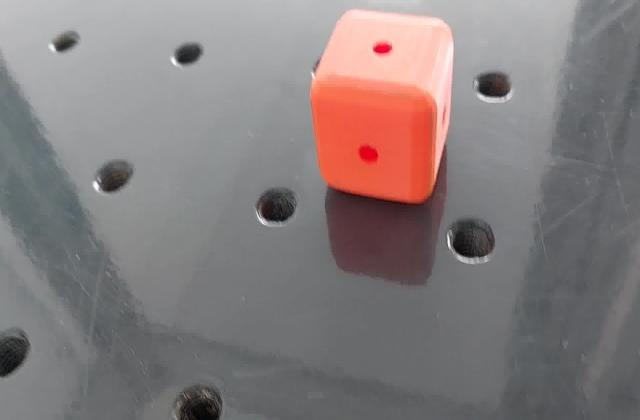cube: (304, 6, 456, 208)
